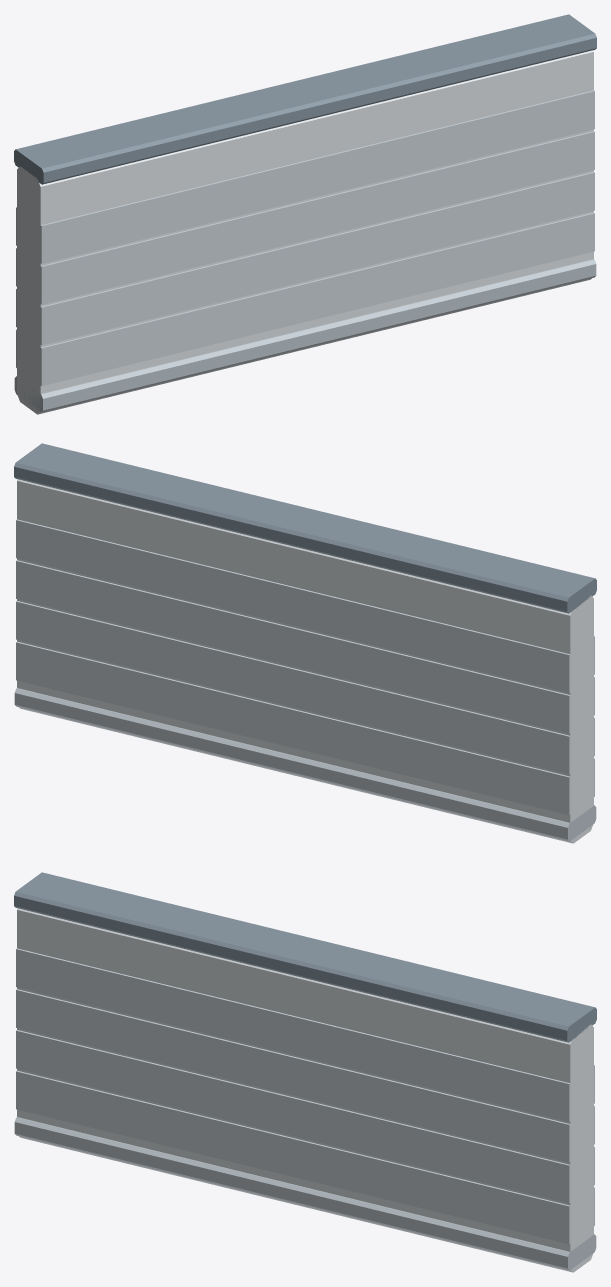
Rendered from wall_restaurant_pantry.glb.
The picture shows the model from 3 angles, top to bottom: view 1: azimuth 30°, elevation 25°; view 2: azimuth 150°, elevation 25°; view 3: azimuth 330°, elevation 25°; orthographic projection.
Parts seen in each view (by area): view 1: Part_001, Part_002, Part_005, Part_007, Part_009, Part_011, Part_003; view 2: Part_001, Part_002, Part_004, Part_006, Part_008, Part_010, Part_003; view 3: Part_001, Part_002, Part_005, Part_007, Part_009, Part_011, Part_003.
Boxes of the visible parts, bbox=[...] form: Part_001: bbox=[17, 50, 593, 414]; Part_002: bbox=[14, 14, 596, 184]; Part_005: bbox=[40, 212, 594, 386]; Part_007: bbox=[40, 172, 594, 345]; Part_009: bbox=[40, 131, 594, 304]; Part_011: bbox=[40, 90, 594, 263]; Part_003: bbox=[14, 259, 596, 412]; Part_001: bbox=[17, 479, 593, 843]; Part_002: bbox=[14, 443, 596, 613]; Part_004: bbox=[16, 641, 570, 815]; Part_006: bbox=[16, 601, 570, 774]; Part_008: bbox=[16, 560, 570, 733]; Part_010: bbox=[16, 519, 570, 692]; Part_003: bbox=[14, 688, 596, 841]; Part_001: bbox=[17, 908, 593, 1272]; Part_002: bbox=[14, 872, 596, 1042]; Part_005: bbox=[16, 1070, 570, 1244]; Part_007: bbox=[16, 1030, 570, 1203]; Part_009: bbox=[16, 989, 570, 1162]; Part_011: bbox=[16, 948, 570, 1121]; Part_003: bbox=[14, 1117, 596, 1270].
Size of the model in its own units: 2.7 by 1.16 by 0.25.
